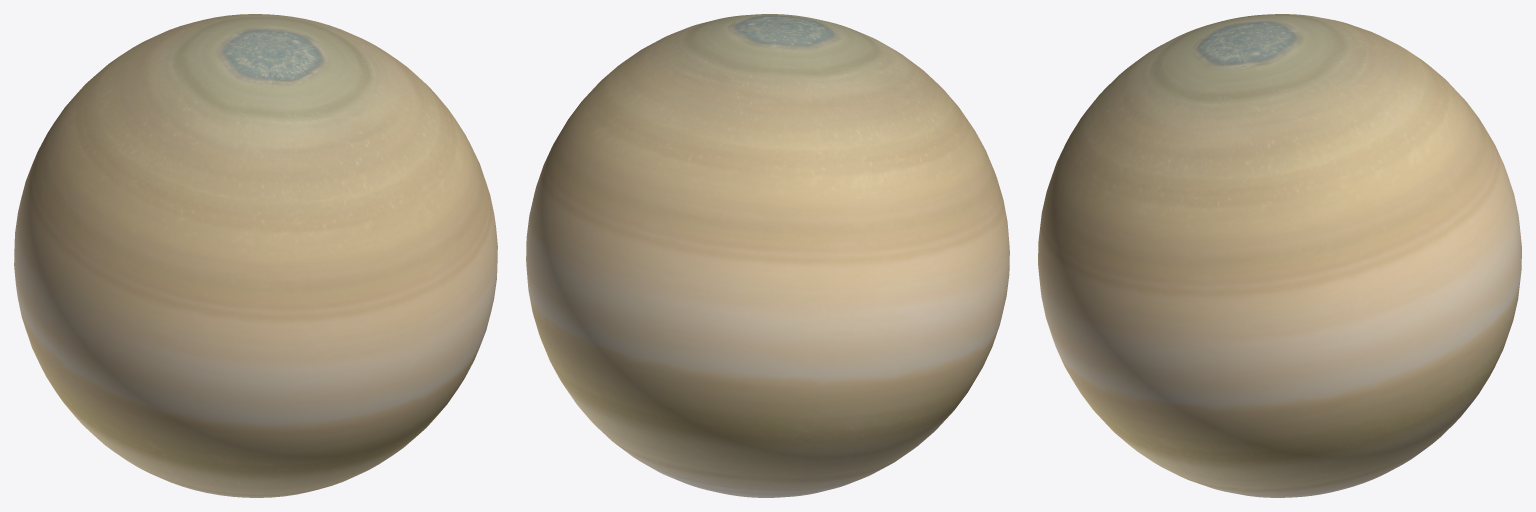
Rendered from saturn.glb.
3 renders of one model, left to right at view 1: azimuth 30°, elevation 25°; view 2: azimuth 150°, elevation 25°; view 3: azimuth 270°, elevation 25°, orthographic.
Visible parts, largest first — view 1: saturn; view 2: saturn; view 3: saturn.
Part boxes in pixels (x1=…): saturn: x1=14, y1=14, x2=497, y2=497; saturn: x1=526, y1=14, x2=1009, y2=497; saturn: x1=1038, y1=14, x2=1521, y2=497.
Size of the model in its own units: 4.31 by 4.3 by 4.3.
Materials: 1 (1 with a texture image).
